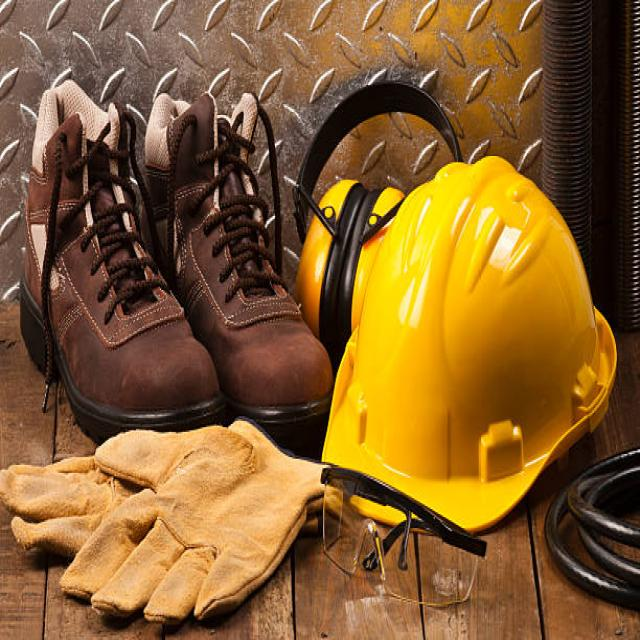Gloves: (0, 411, 332, 640)
helmet: (316, 151, 623, 542)
